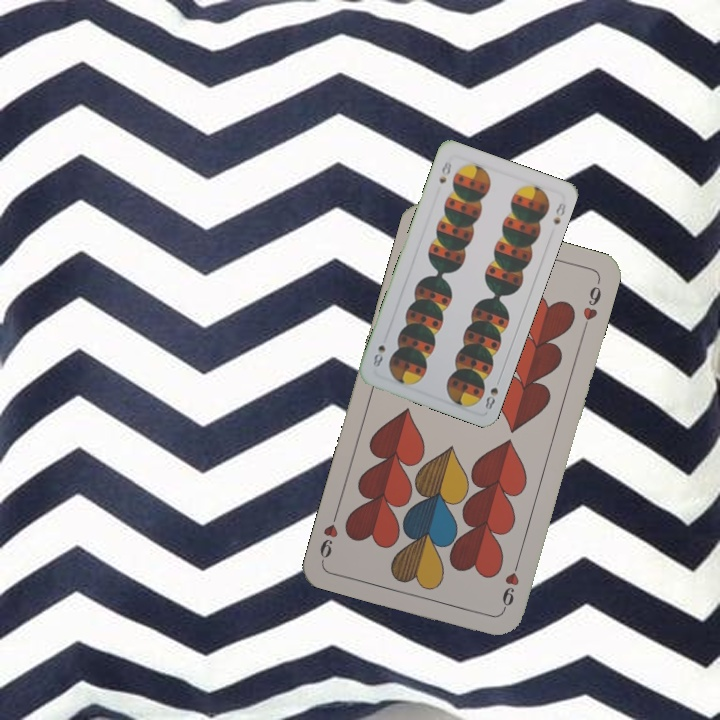H9: (498, 556, 523, 614)
S8: (481, 373, 503, 412), (435, 157, 455, 186)
